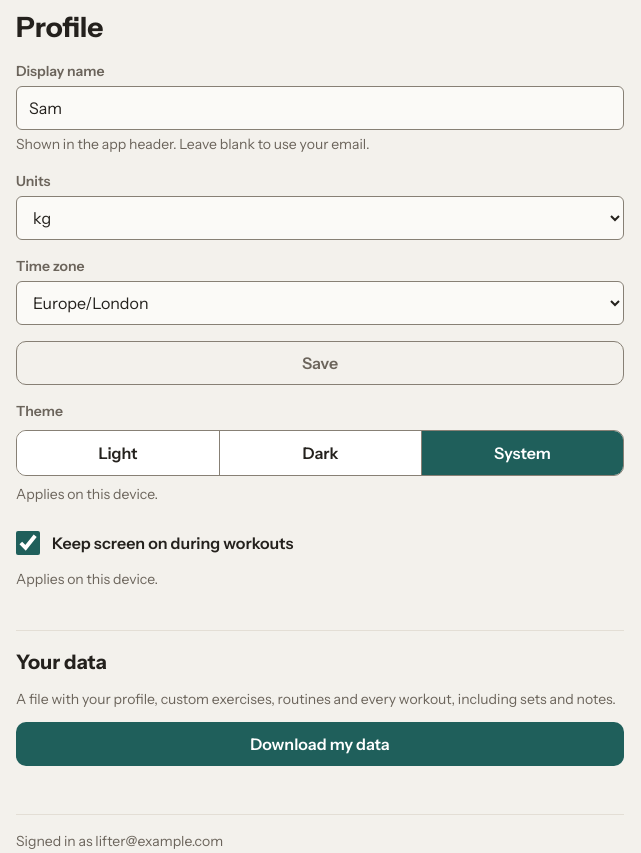
12 AC23 — accessibility › the status region exists before it is filled, and busy uses aria-busy
The image size is (641, 853).
Step 1. Click the button "Download my data" → (320, 744), box left=16, top=722, right=624, bottom=766
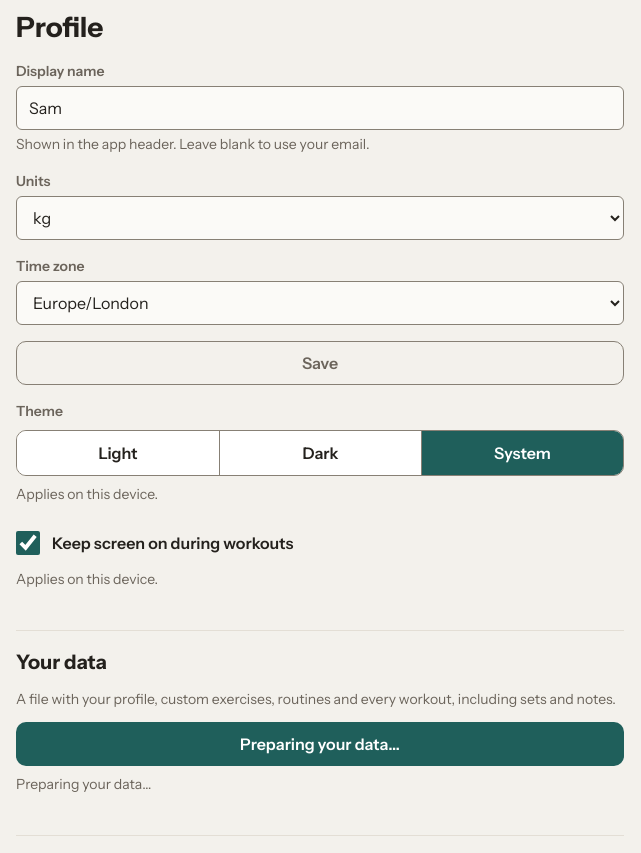
Check: the message reads "Preparing your data…", box left=16, top=775, right=152, bottom=793
